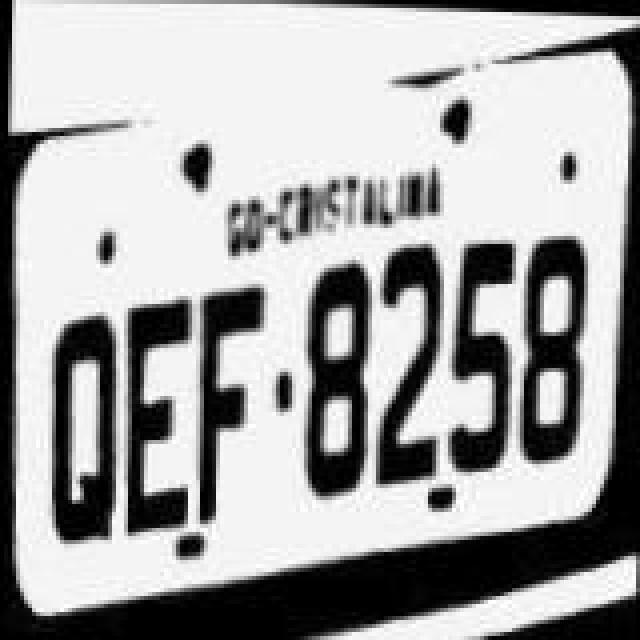2: (368, 232, 448, 492)
5: (442, 228, 514, 476)
8: (296, 246, 376, 494), (512, 226, 588, 470)
E: (116, 292, 192, 536)
F: (186, 280, 270, 524)
Q: (38, 306, 126, 542)
